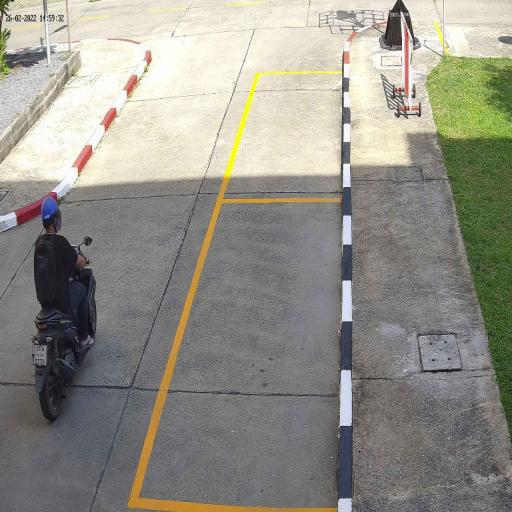motorcycle: (31, 266, 99, 422)
